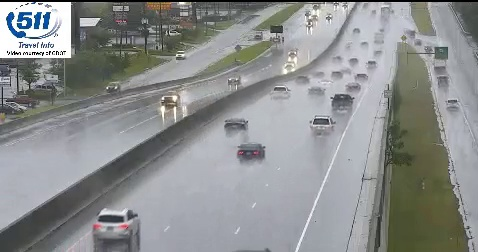car: (93, 208, 141, 240), (236, 143, 265, 161), (312, 116, 333, 135), (332, 94, 353, 110)
